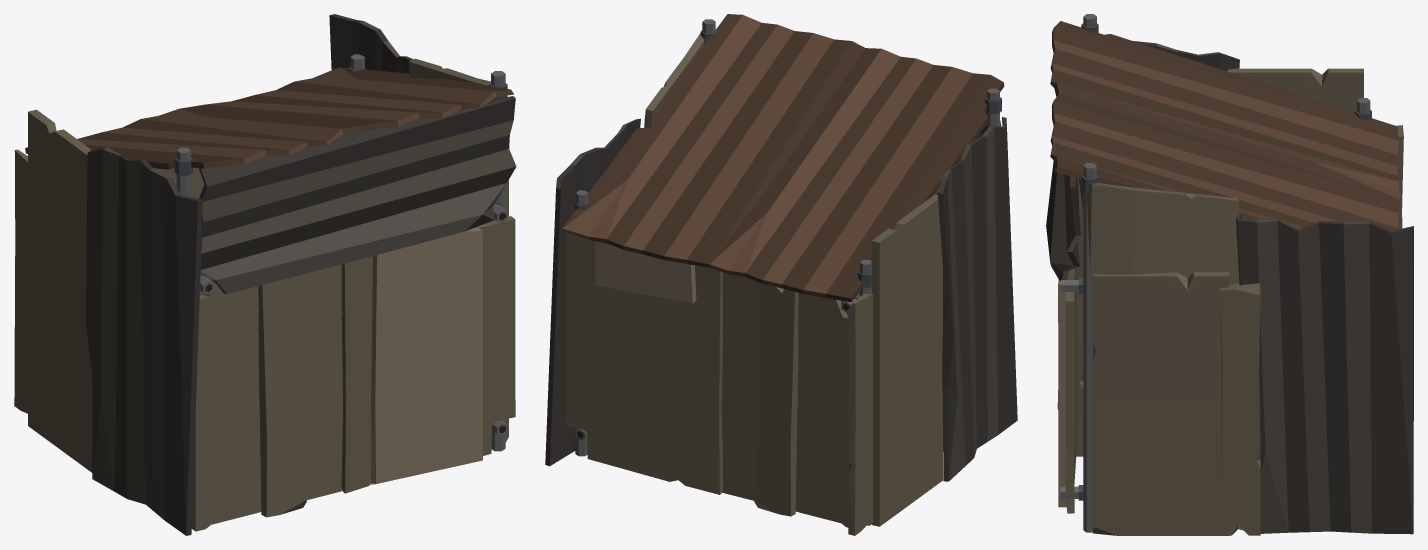
Rendered from city_SM_Building_Shack_01.gltf.
The picture shows the model from 3 angles, left to right: view 1: azimuth 30°, elevation 25°; view 2: azimuth 150°, elevation 25°; view 3: azimuth 270°, elevation 25°; orthographic projection. The views are drawn at different scales.
Visible parts, largest first — view 1: SM_Building_Shack_01; view 2: SM_Building_Shack_01; view 3: SM_Building_Shack_01.
Boxes of the visible parts, x1=… form: SM_Building_Shack_01: x1=14, y1=14, x2=516, y2=535; SM_Building_Shack_01: x1=545, y1=14, x2=1017, y2=535; SM_Building_Shack_01: x1=1046, y1=14, x2=1413, y2=535.
Bounding box in the file's own units: 2.77 × 2.77 × 2.53.
Materials: 1 (1 with a texture image).
